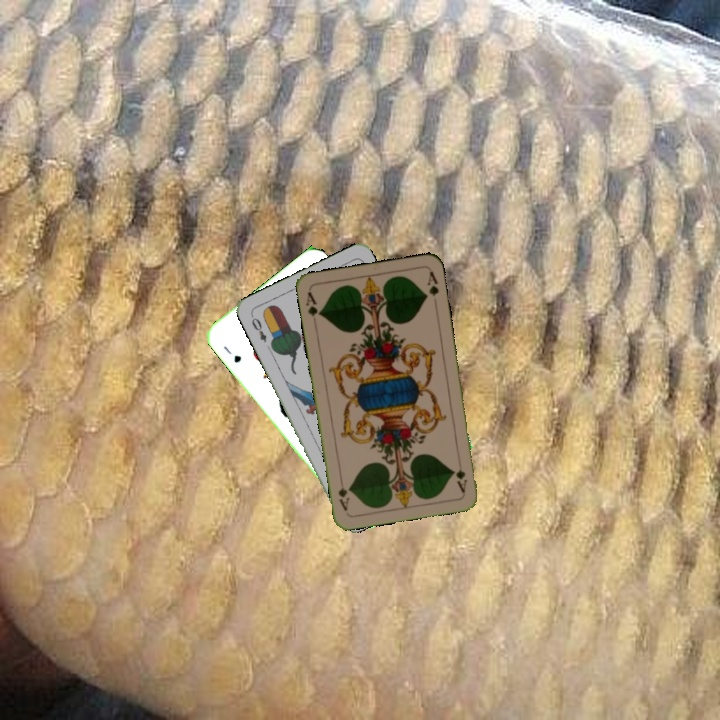EO: (247, 311, 269, 345)
GA: (302, 287, 324, 328), (452, 465, 470, 495)
GU: (219, 342, 244, 366)
